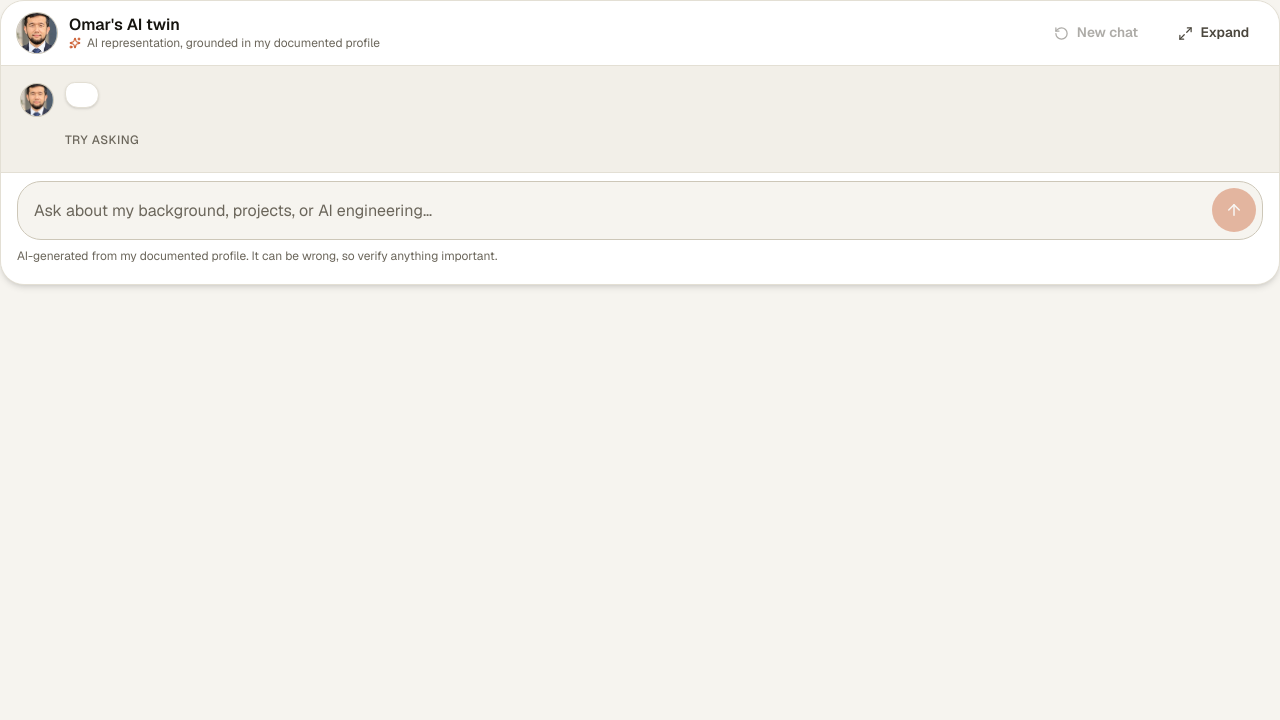
Scenario: digital twin chat › shows a friendly error and retries the same message without duplicating it
Type "Hello" into the text box named "Message to Omar" at (619, 211), box 34,190 -> 1204,232
Then press Enter
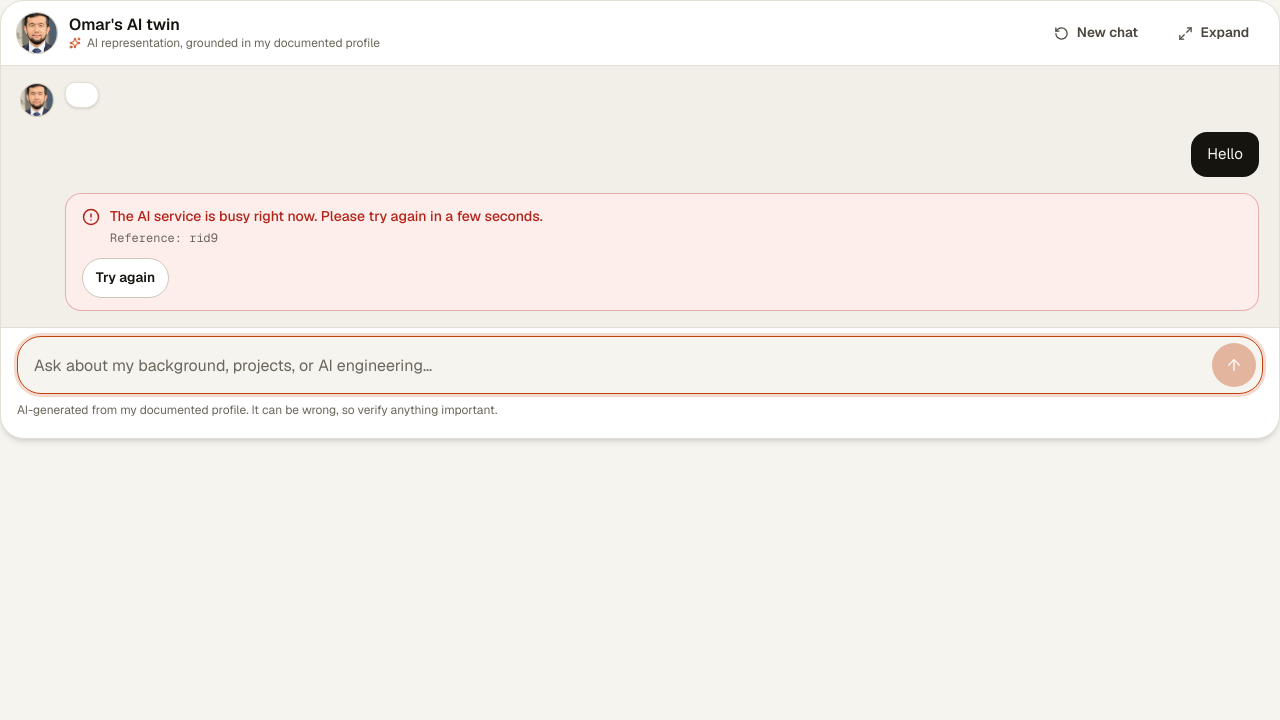
Now the text "busy right now" is shown, box 110,207 -> 543,225
Now the text "Reference: rid9" is shown, box 110,230 -> 218,246
Click the button "Try again" at (126, 278), box 82,258 -> 169,298
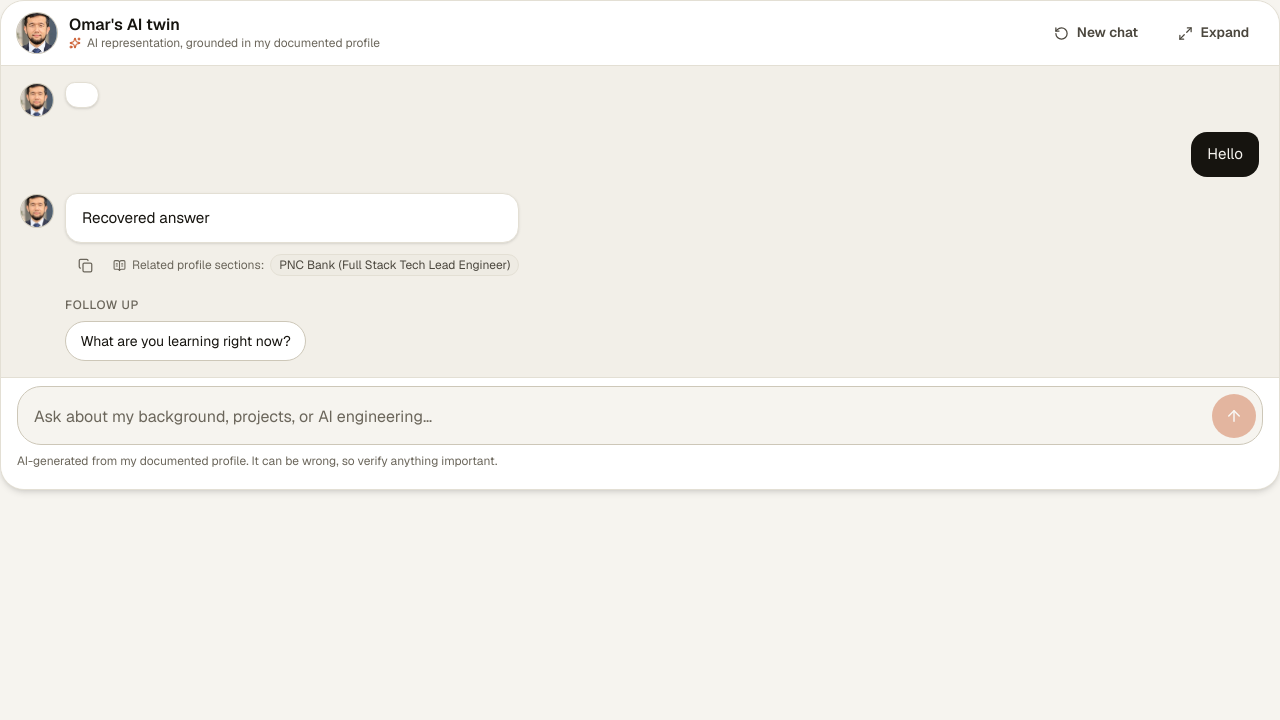
Now the text "Hello" is shown once, box 1191,132 -> 1259,177
Now the text "Recovered answer" is shown, box 82,208 -> 210,227
